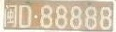D: (19, 5, 31, 28)
